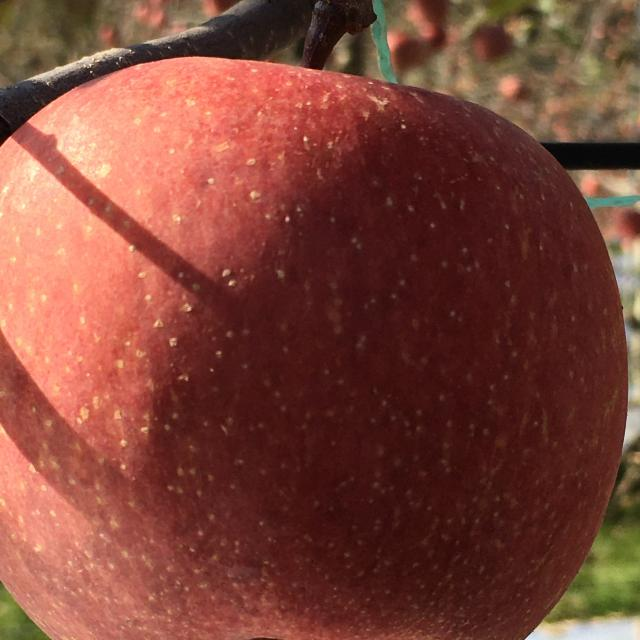fresh: (1, 46, 634, 640)
